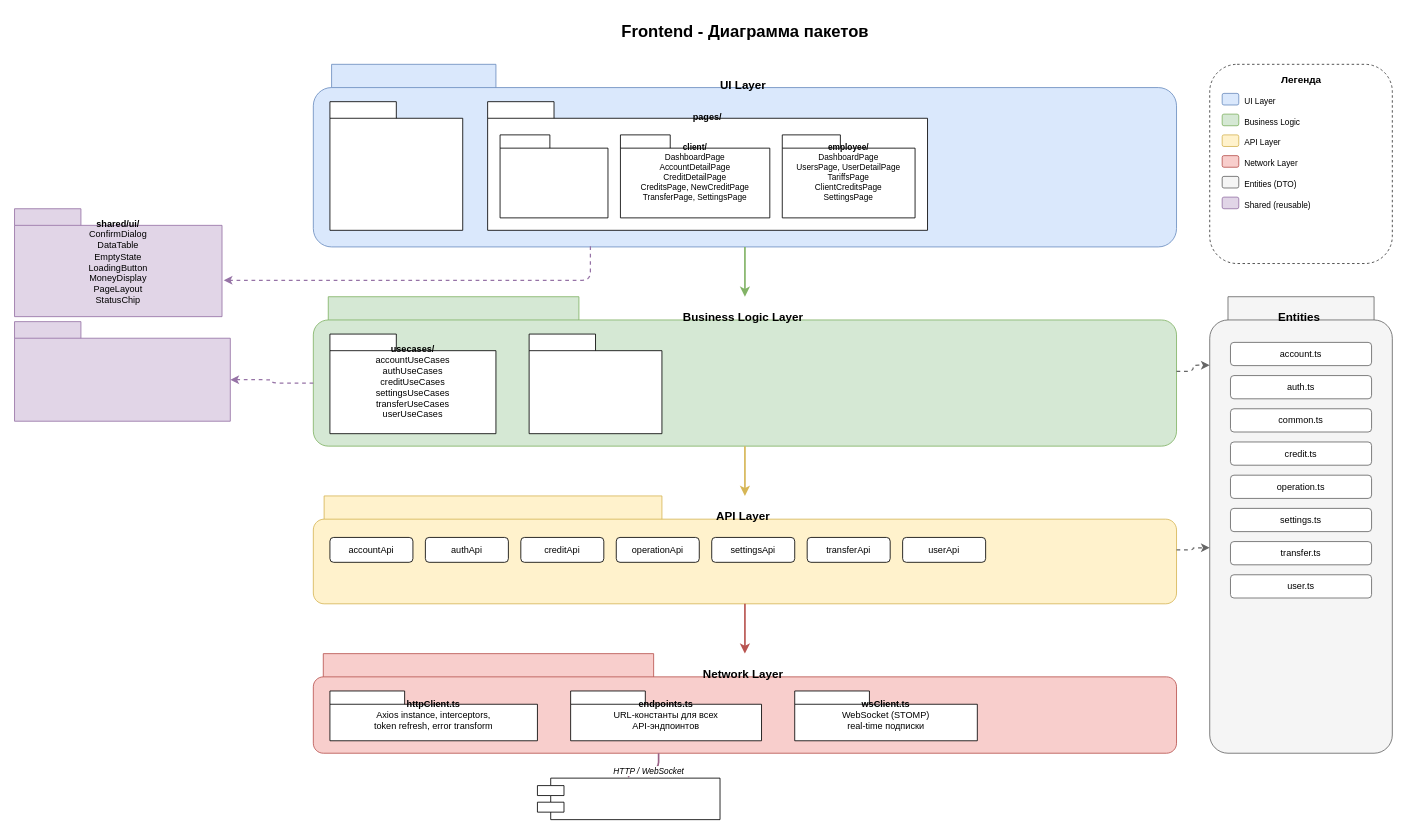
The diagram is 1407 pixels wide and 834 high, and some of its shapes have lost their labels. Each missing label, with the centre of its shape:
"app/ App.tsx Layout.tsx ProtectedRoute.tsx routes.tsx theme.ts" goes at (x=396, y=165).
"auth/ LoginPage RegisterPage CallbackPage" goes at (x=553, y=176).
"Backend (BFF) client-bff / employee-bff" goes at (x=628, y=798).
"shared/ hooks/ utils/format.ts utils/globalErrorHandler.ts" goes at (x=122, y=371).
"store/ authStore settingsStore" goes at (x=595, y=383).
